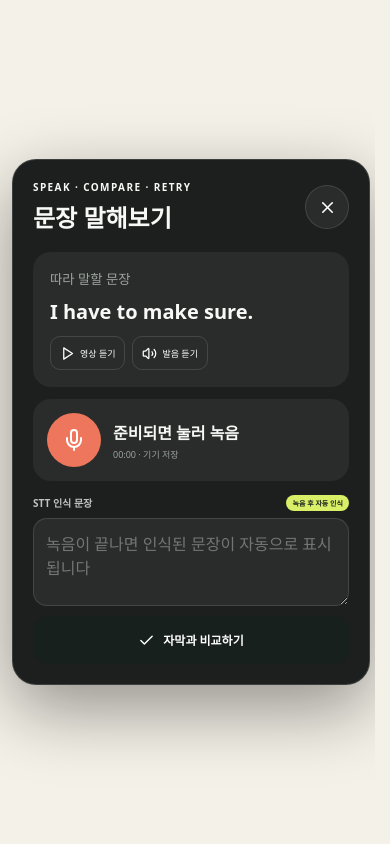
Test: Saving a recording on the device › waits for the tail chunk WebKit delivers after onstop
Click the button with class "speech-record-main": (74, 440) [47,413,101,467]
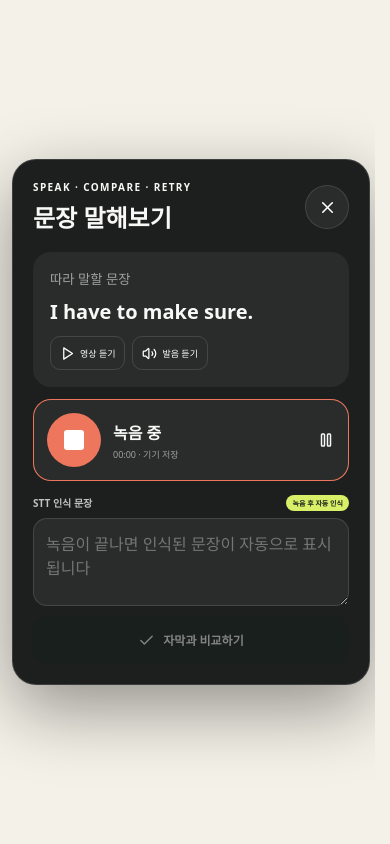
Click the button with class "speech-record-main": (74, 440) [47,413,101,467]
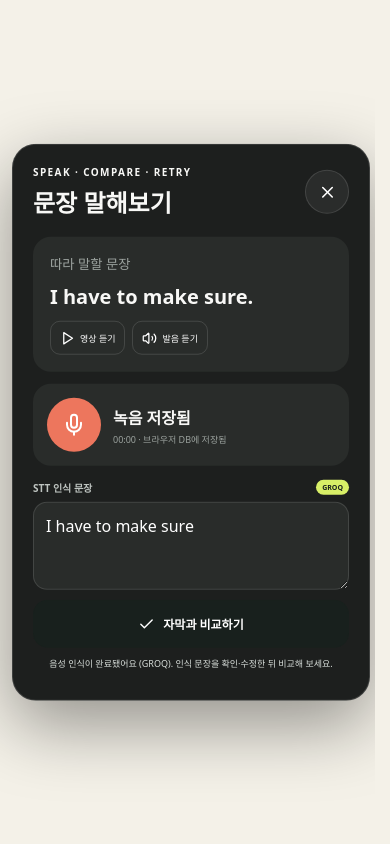
Expected: the text "00:00 · 브라우저 DB에 저장됨" is shown, [113,432,226,445]
